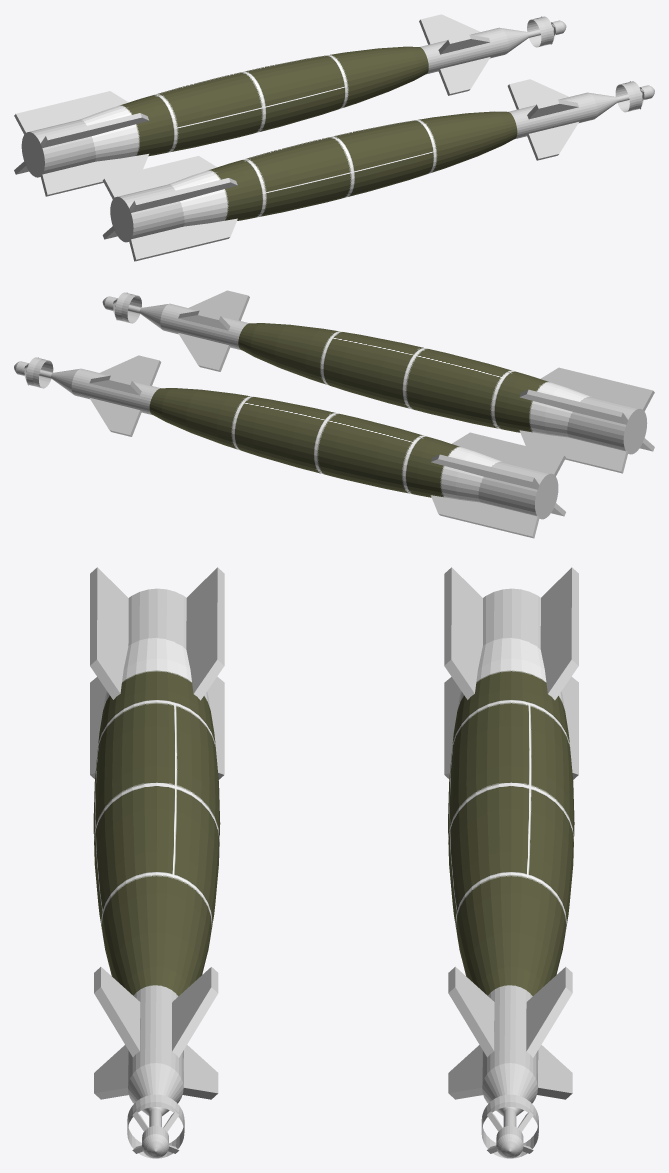
Rendered from a10cgbu1057.glb.
3 renders of one model, top to bottom at view 1: azimuth 30°, elevation 25°; view 2: azimuth 150°, elevation 25°; view 3: azimuth 270°, elevation 25°, orthographic. The views are drawn at different scales.
Visible parts, largest first — view 1: 球.003, 球.001; view 2: 球.001, 球.003; view 3: 球.001, 球.003.
Boxes of the visible parts, x1=… form: 球.003: x1=102, y1=79, x2=654, y2=261; 球.001: x1=14, y1=14, x2=566, y2=196; 球.001: x1=14, y1=355, x2=565, y2=538; 球.003: x1=102, y1=290, x2=654, y2=473; 球.001: x1=444, y1=567, x2=578, y2=1158; 球.003: x1=90, y1=567, x2=224, y2=1158.
Size of the model in its own units: 4.24 by 0.4634 by 1.68.
Materials: 1 (1 with a texture image).
